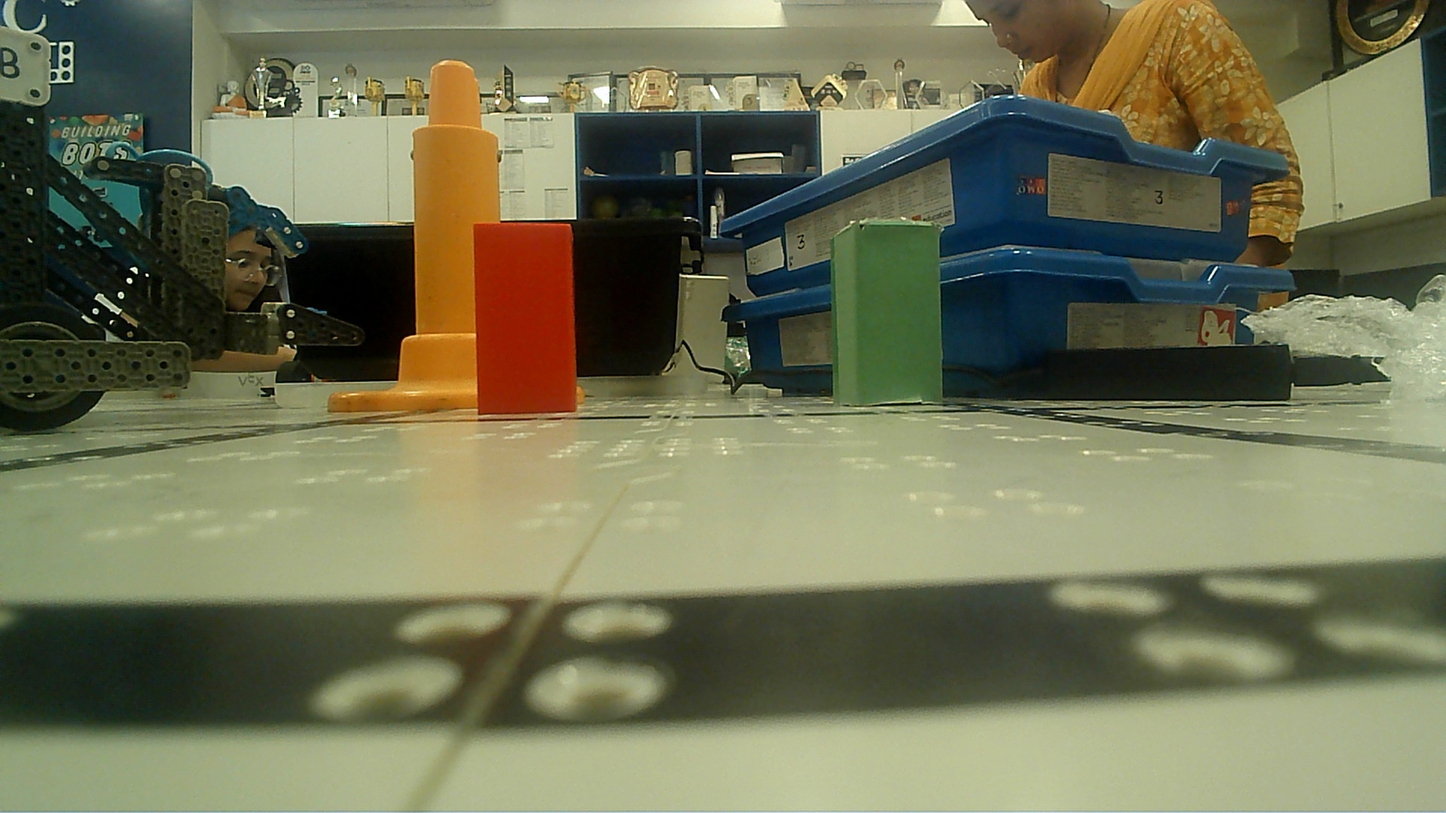red: (463, 203, 583, 434)
